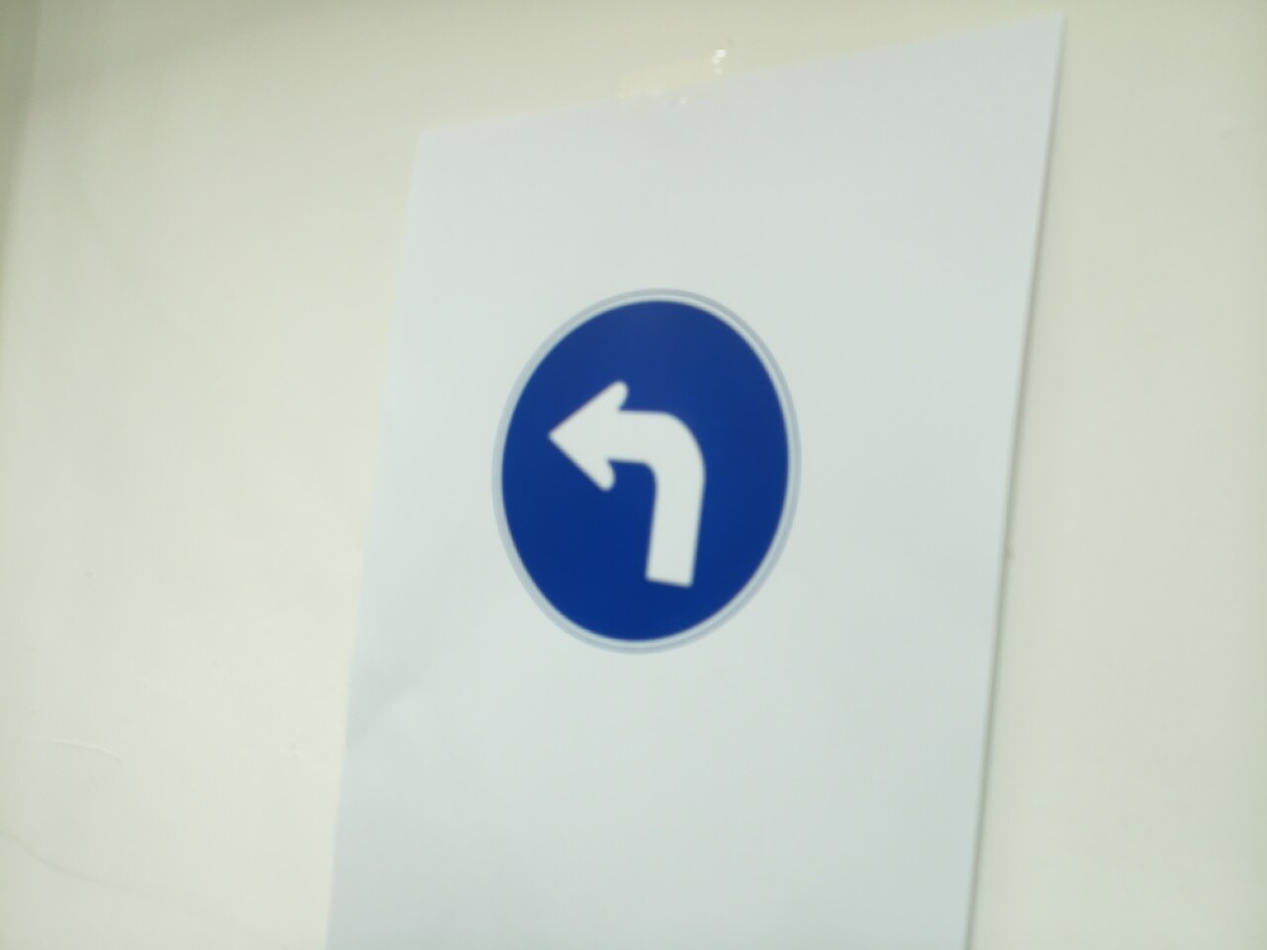left_turn: (493, 290, 798, 652)
